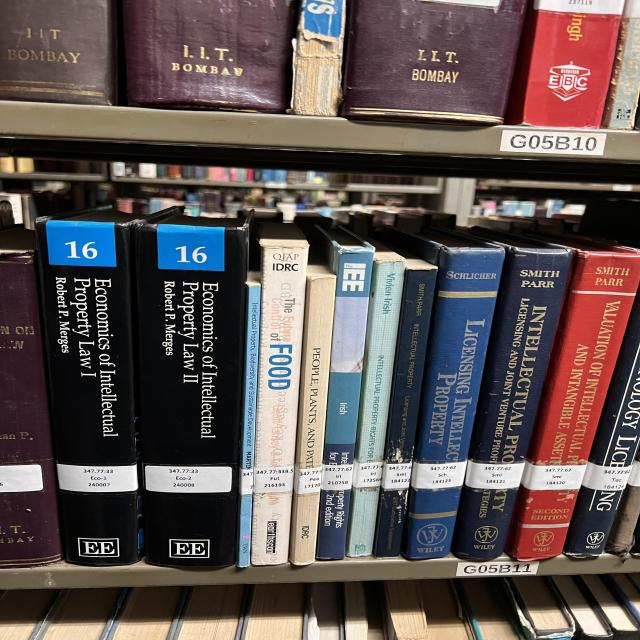Book: (507, 238, 640, 560), (135, 209, 248, 568), (452, 228, 572, 560), (385, 230, 505, 559), (35, 206, 142, 566), (0, 225, 62, 568), (563, 296, 640, 556), (373, 258, 437, 558), (252, 224, 308, 565), (317, 230, 373, 559), (347, 246, 405, 558), (290, 265, 335, 565), (237, 271, 262, 568)
Label: (145, 465, 232, 492), (57, 464, 138, 492), (522, 461, 587, 490), (465, 460, 525, 489), (412, 461, 467, 489), (582, 462, 632, 491), (0, 465, 43, 492), (253, 466, 293, 494), (352, 461, 383, 488), (382, 462, 412, 489), (322, 464, 353, 490), (295, 466, 322, 494), (240, 469, 253, 495)
